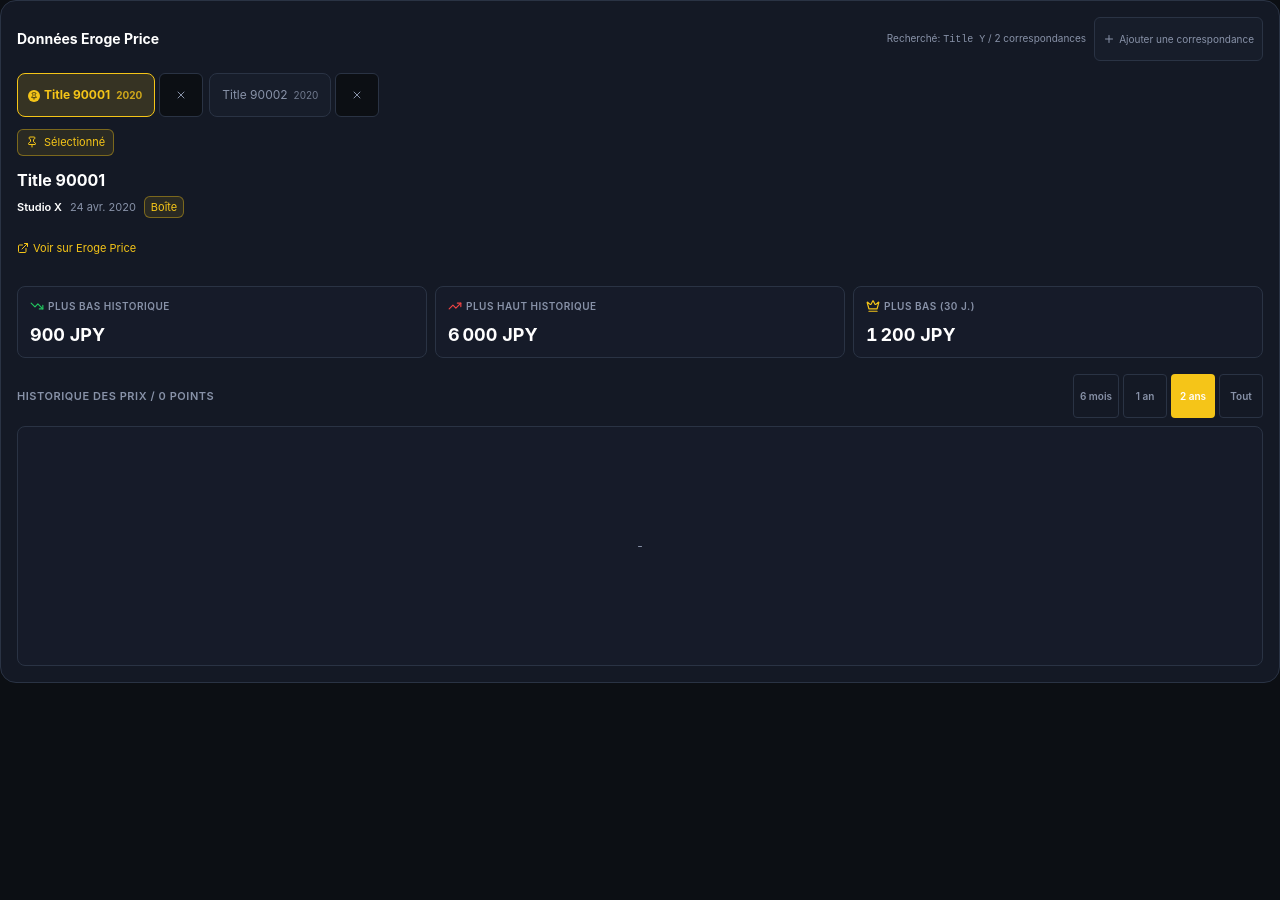
Test: ErogePricePanel branches › reverts the candidate list and toasts when removal DELETE fails
The image size is (1280, 900).
What coordinates should you click on to do the following:
click the button named "Retirer ce candidat: Title 90002"
I would click on:
 (357, 95)
Its box is [335,73,379,117].
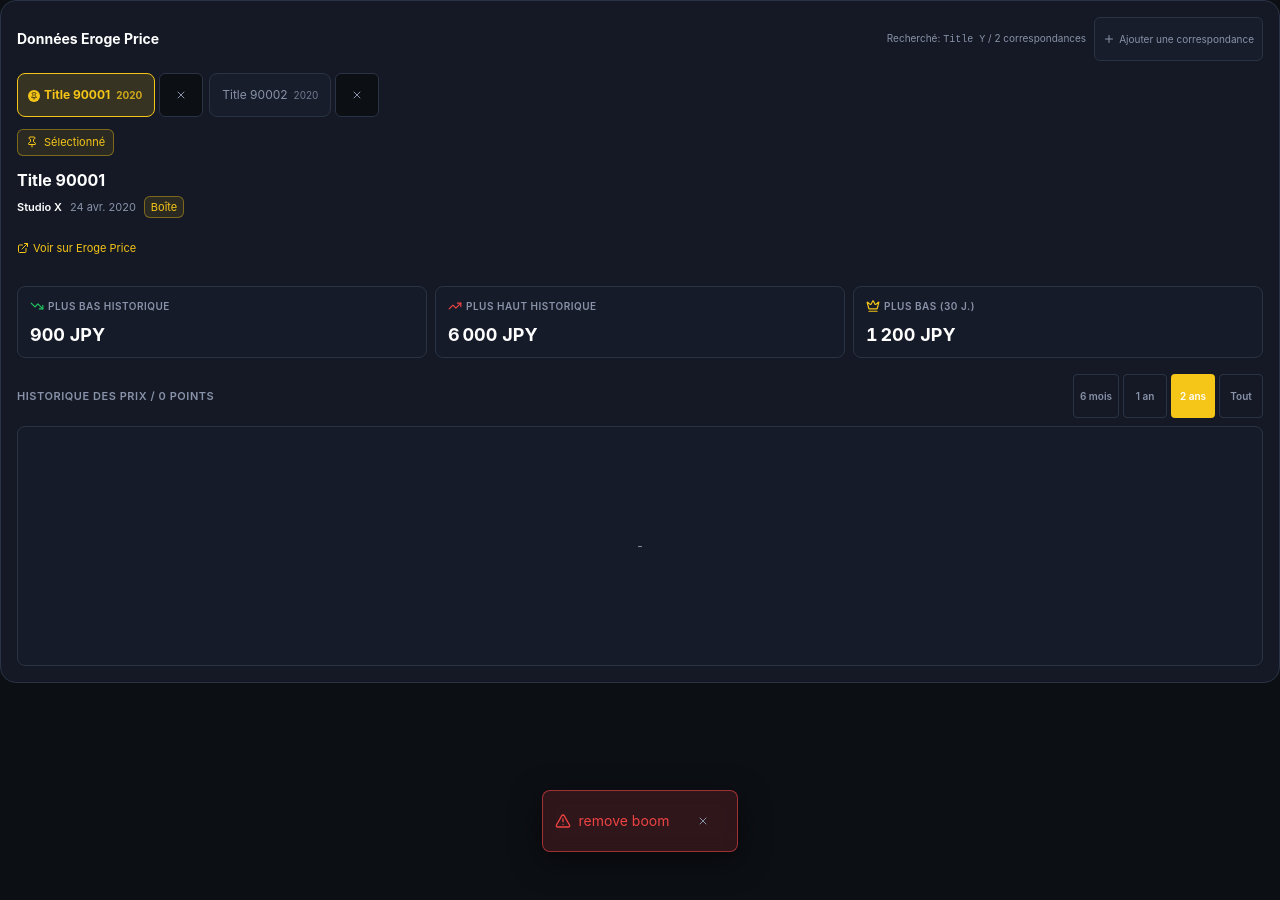
Check: the button "Title 900022020" is shown, box [209,73,332,117]
Check: the text "remove boom" is shown, box [578,811,669,831]
